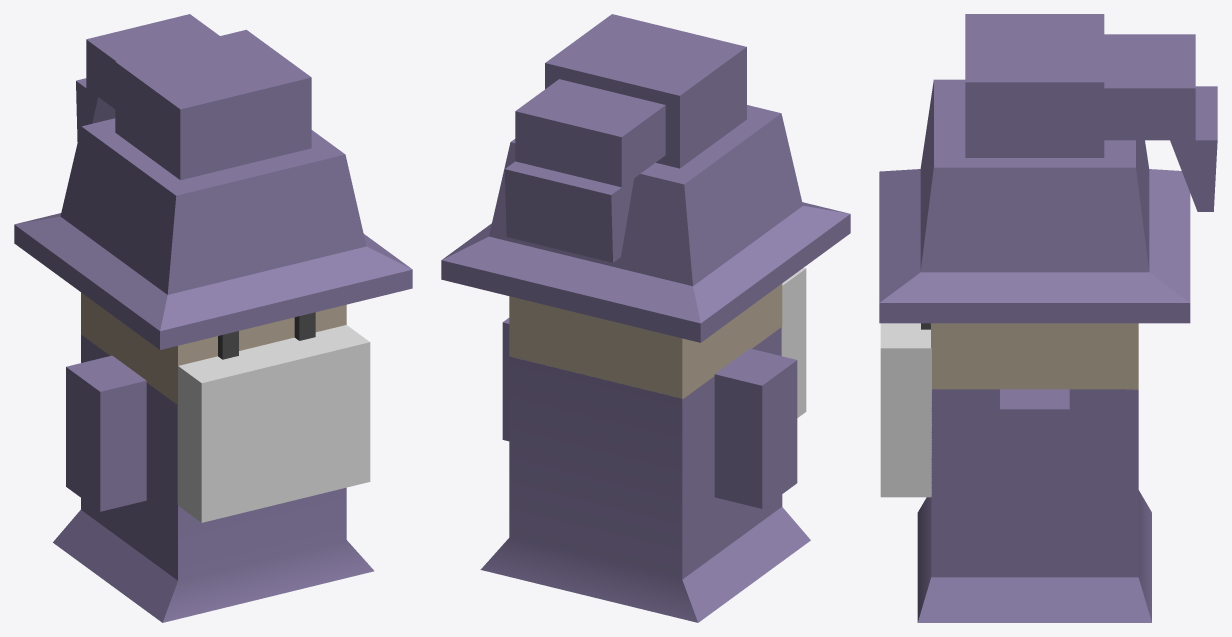
File: Character_Wizard.fbx
3 renders of one model, left to right at view 1: azimuth 30°, elevation 25°; view 2: azimuth 150°, elevation 25°; view 3: azimuth 270°, elevation 25°, orthographic. The views are drawn at different scales.
Visible parts, largest first — view 1: Standard_Wall3, Standard_Wall1, Standard_Wall4, Standard_Wall2, Standard_Wall10; view 2: Standard_Wall3, Standard_Wall1, Standard_Wall2, Standard_Wall4; view 3: Standard_Wall3, Standard_Wall1, Standard_Wall2, Standard_Wall4.
Boxes of the visible parts, bbox=[...] form: Standard_Wall3: bbox=[14, 14, 412, 349]; Standard_Wall1: bbox=[53, 334, 374, 622]; Standard_Wall4: bbox=[177, 325, 370, 522]; Standard_Wall2: bbox=[81, 292, 346, 404]; Standard_Wall10: bbox=[294, 312, 315, 340]; Standard_Wall3: bbox=[441, 14, 850, 342]; Standard_Wall1: bbox=[480, 318, 810, 622]; Standard_Wall2: bbox=[509, 283, 782, 399]; Standard_Wall4: bbox=[781, 267, 806, 417]; Standard_Wall3: bbox=[879, 14, 1217, 323]; Standard_Wall1: bbox=[917, 389, 1151, 622]; Standard_Wall2: bbox=[931, 323, 1138, 390]; Standard_Wall4: bbox=[880, 323, 931, 497].
Size of the model in its own units: 3.05 by 5.53 by 3.26.
